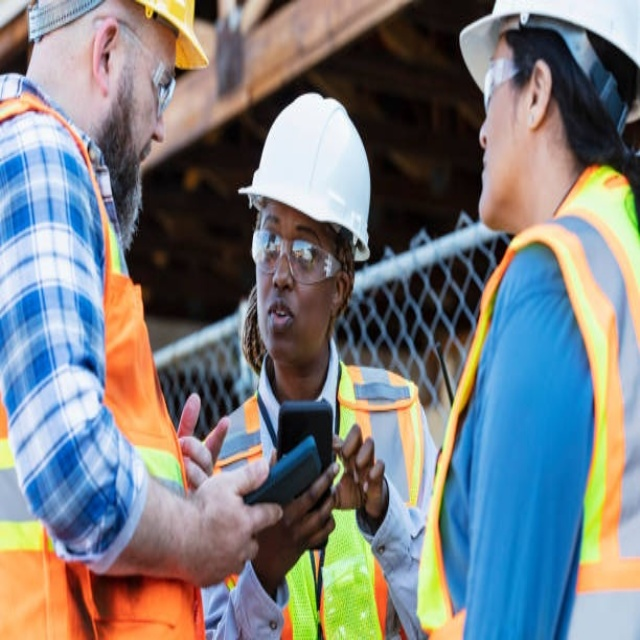Gafas: (113, 16, 178, 120), (251, 223, 342, 283), (481, 47, 524, 110)
Sin_guantes: (181, 447, 288, 588), (249, 442, 342, 582), (328, 420, 384, 517), (174, 383, 228, 475)
Sin_mascara: (258, 292, 301, 353)
